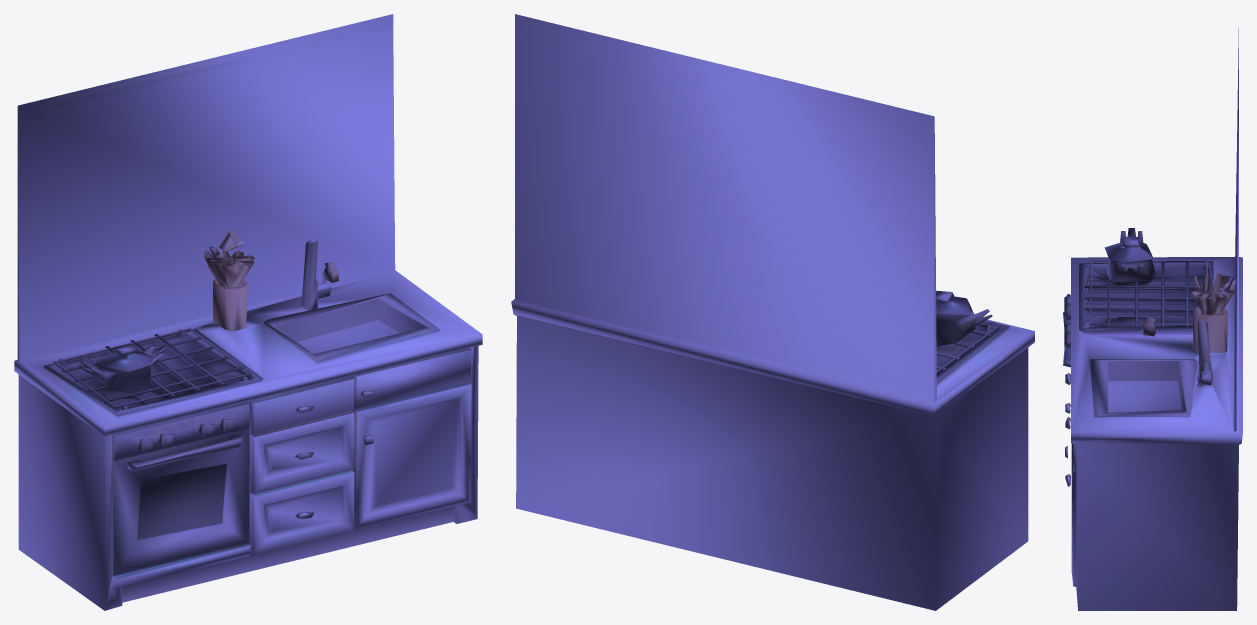
Rendered from model.progressive.glb.
The picture shows the model from 3 angles, left to right: view 1: azimuth 30°, elevation 25°; view 2: azimuth 150°, elevation 25°; view 3: azimuth 270°, elevation 25°; orthographic projection. The views are drawn at different scales.
Parts seen in each view (by area): view 1: mesh_input; view 2: mesh_input; view 3: mesh_input.
Boxes of the visible parts, x1,y1,x2,y2 form: mesh_input: (14, 14, 482, 610); mesh_input: (511, 14, 1034, 610); mesh_input: (1063, 27, 1242, 610).
Size of the model in its own units: 1.66 by 1.86 by 0.7187.
1 material, 1 textured.
